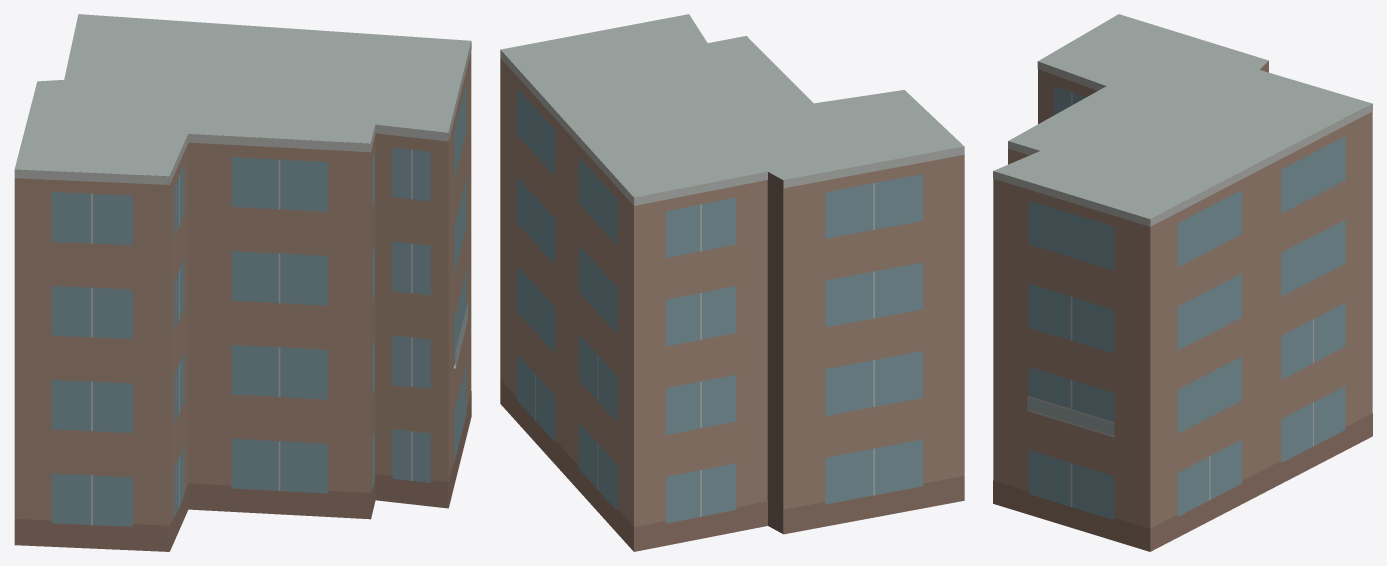
File: survey-upis-32584271.glb
The picture shows the model from 3 angles, left to right: view 1: azimuth 30°, elevation 25°; view 2: azimuth 150°, elevation 25°; view 3: azimuth 270°, elevation 25°; orthographic projection. The views are drawn at different scales.
Parts seen in each view (by area): view 1: survey-upis-32584271.tmp; view 2: survey-upis-32584271.tmp; view 3: survey-upis-32584271.tmp.
Part boxes in pixels (x1,y1,x2,y2): survey-upis-32584271.tmp: [14, 14, 471, 551]; survey-upis-32584271.tmp: [500, 14, 964, 551]; survey-upis-32584271.tmp: [993, 14, 1372, 551].
Bounding box in the file's own units: 13.96 × 10.55 × 10.92.
